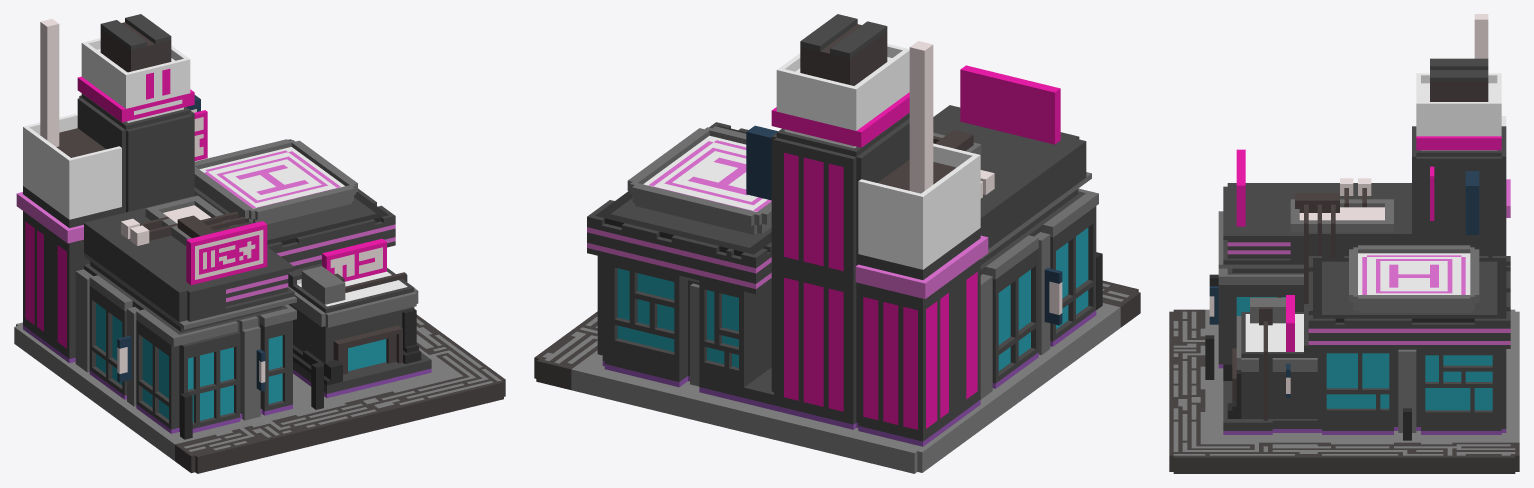
The model's file is _mainbuilding.obj.
The picture shows the model from 3 angles, left to right: view 1: azimuth 30°, elevation 25°; view 2: azimuth 150°, elevation 25°; view 3: azimuth 270°, elevation 25°; orthographic projection. The views are drawn at different scales.
Bounding box in the file's own units: 7.9 × 7.8 × 7.8.
1 material, 1 textured.
